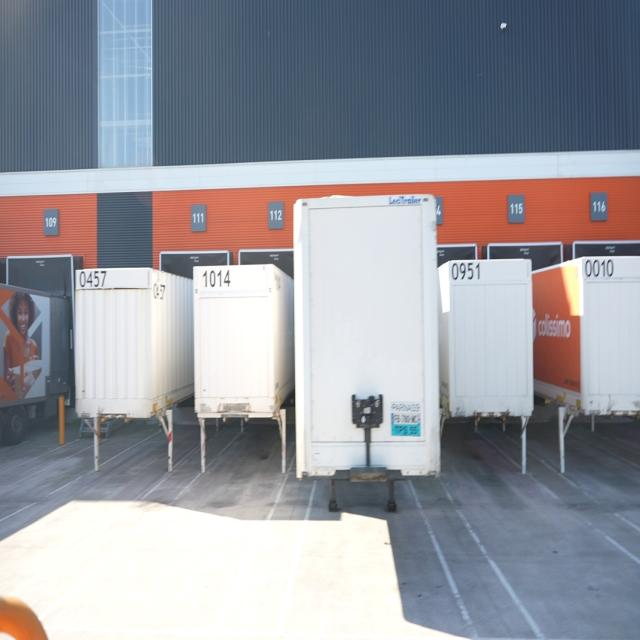Code: (199, 264, 234, 292), (450, 260, 486, 285), (583, 258, 617, 282), (76, 268, 109, 292)
